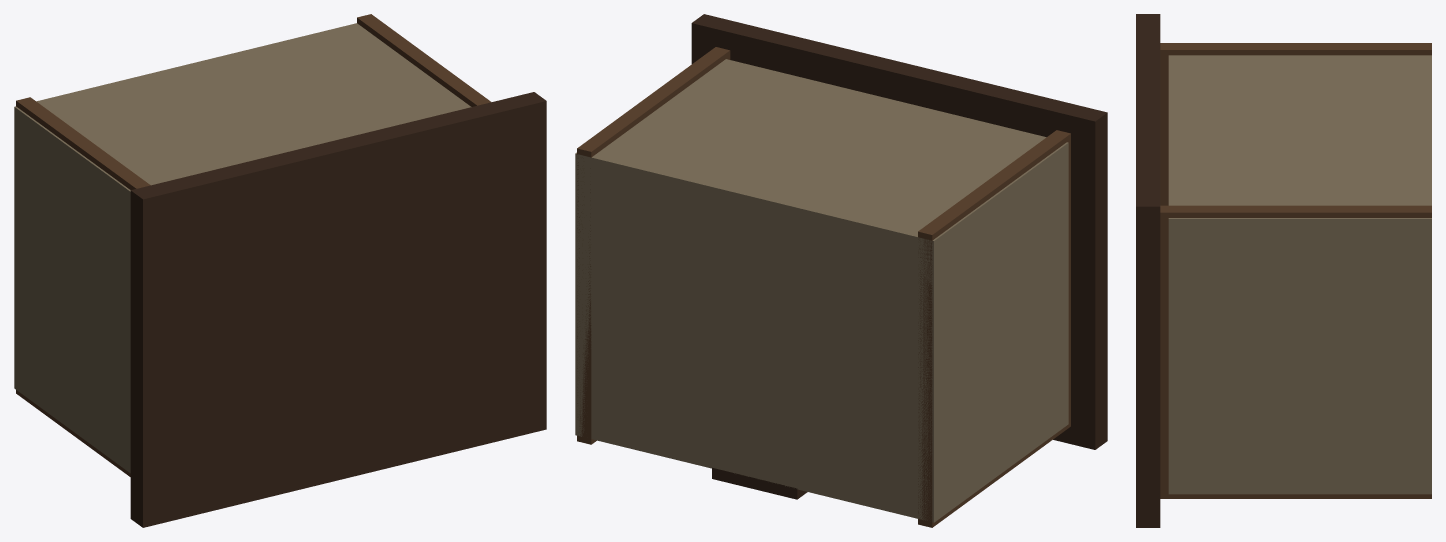
Rendered from SM_TimberHut.obj.
3 views of the same model, side by side, from view 1: azimuth 30°, elevation 25°; view 2: azimuth 150°, elevation 25°; view 3: azimuth 270°, elevation 25° (orthographic). The views are drawn at different scales.
Size of the model in its own units: 4.5 by 3.5 by 2.92.
